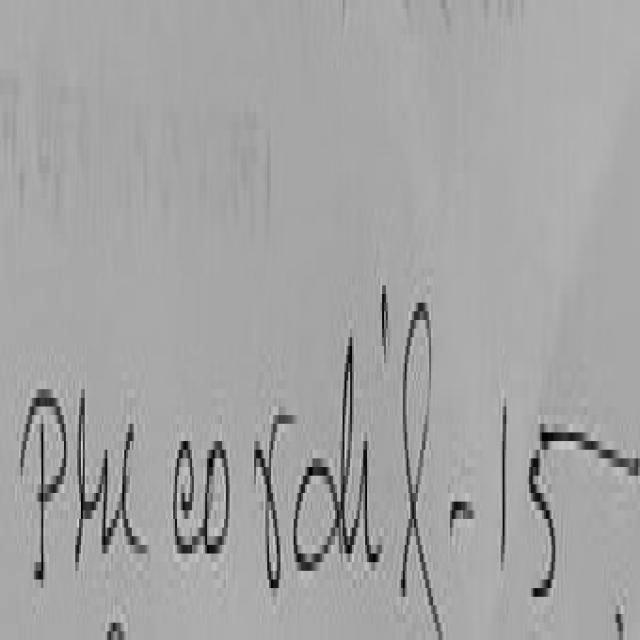1: (500, 398, 507, 566)
5: (531, 420, 639, 592)
P: (21, 389, 66, 575)
c: (173, 441, 207, 567)
d: (294, 337, 357, 571)
e: (119, 424, 151, 562)
i: (346, 441, 382, 562), (382, 286, 389, 360)
l: (403, 303, 444, 636)
o: (205, 450, 230, 549)
r: (253, 399, 295, 593), (77, 389, 120, 566)
